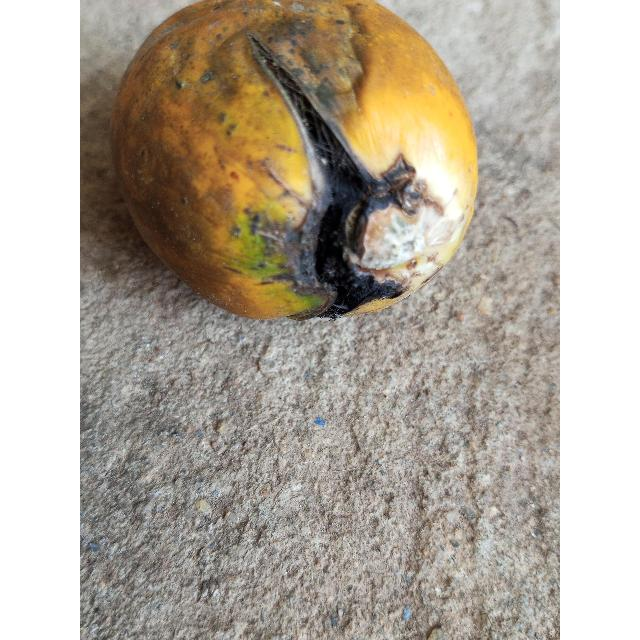damaged: (110, 0, 480, 322)
